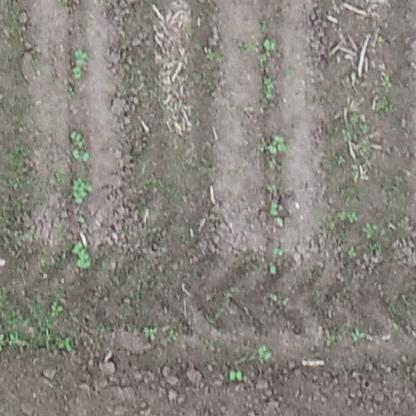vc: (68, 47, 91, 81), (71, 239, 91, 270), (71, 176, 91, 205), (266, 134, 288, 154), (70, 147, 94, 161), (261, 37, 281, 52), (258, 344, 275, 361), (228, 367, 243, 382), (268, 199, 279, 217), (68, 128, 83, 141), (268, 263, 279, 273)
